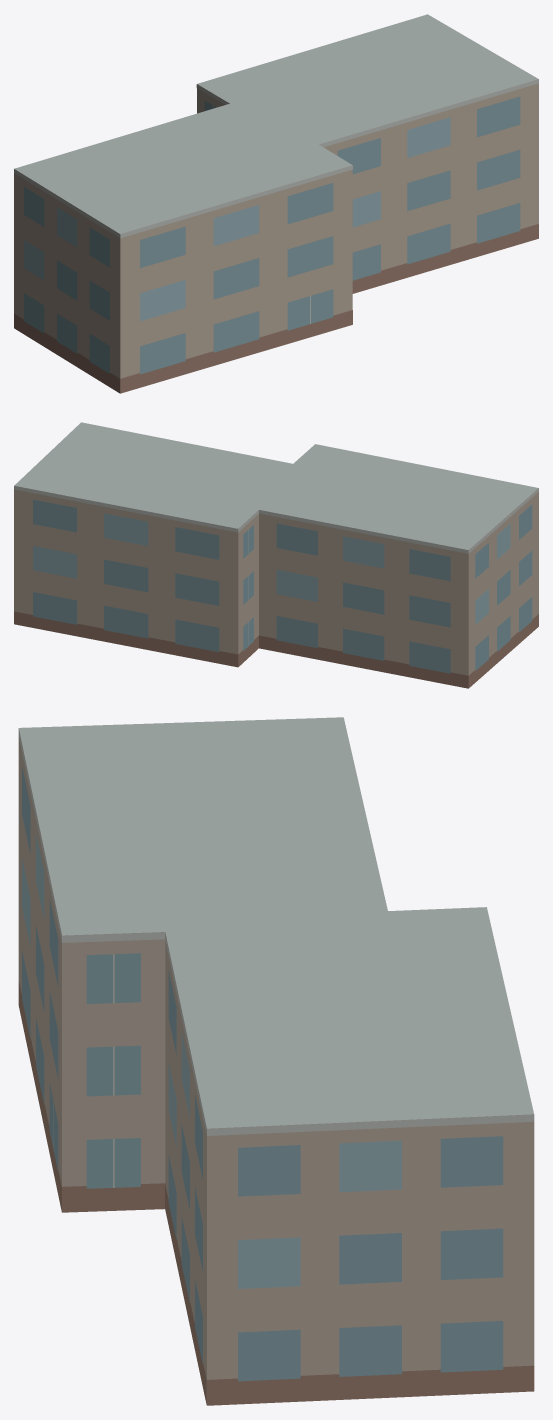
Rendered from survey-upis-32750863.glb.
3 views of the same model, one above another, from view 1: azimuth 30°, elevation 25°; view 2: azimuth 150°, elevation 25°; view 3: azimuth 270°, elevation 25° (orthographic). The views are drawn at different scales.
Parts seen in each view (by area): view 1: survey-upis-32750863.tmp; view 2: survey-upis-32750863.tmp; view 3: survey-upis-32750863.tmp.
Boxes of the visible parts, x1=… form: survey-upis-32750863.tmp: x1=14, y1=14, x2=538, y2=393; survey-upis-32750863.tmp: x1=14, y1=422, x2=538, y2=688; survey-upis-32750863.tmp: x1=18, y1=717, x2=534, y2=1405.
Size of the model in its own units: 29.15 by 9.15 by 15.44.
